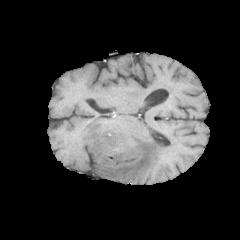glioma: (82, 121, 187, 180)
